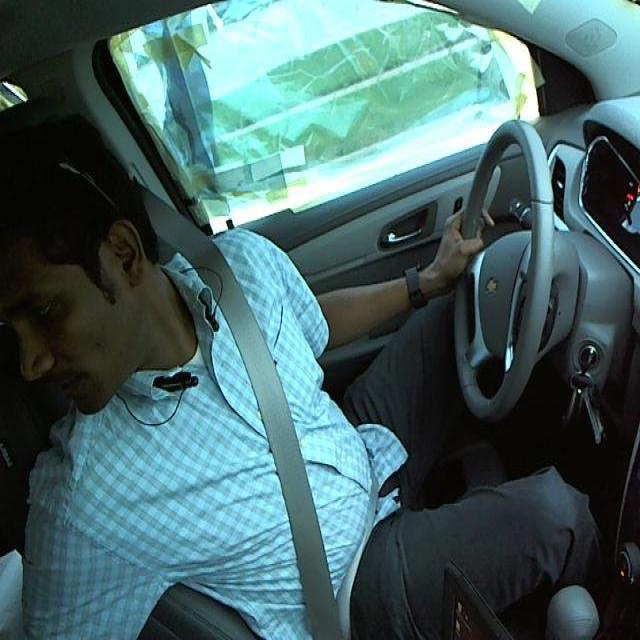seatbelt: (201, 278, 381, 622)
